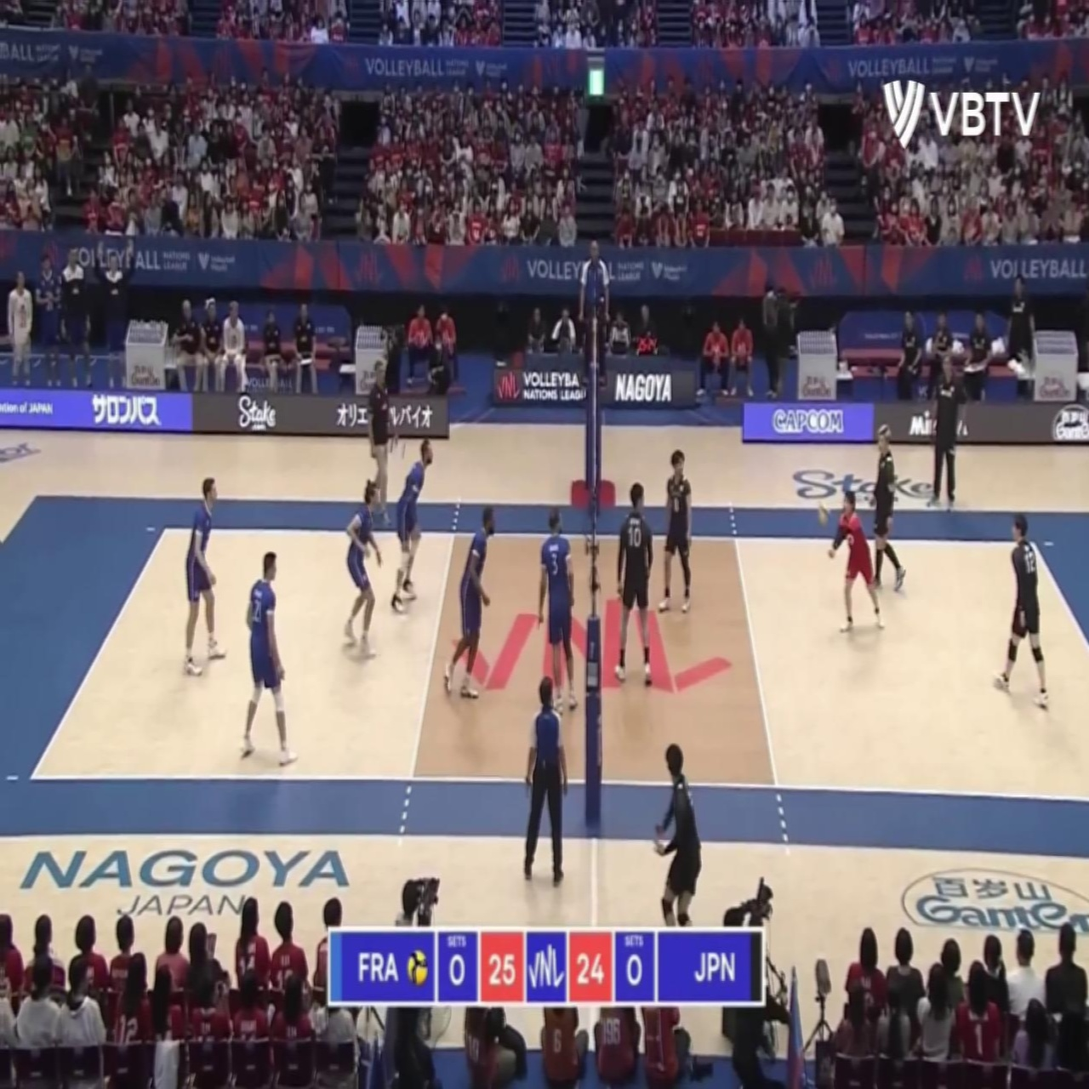ball: (817, 499, 829, 525)
